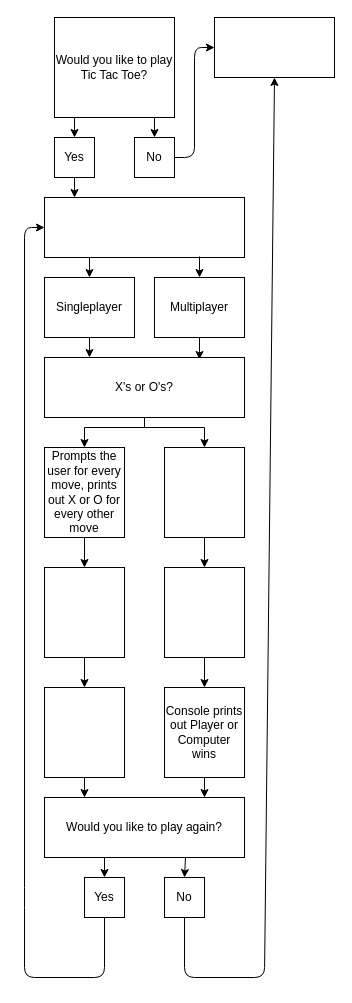
The diagram is 352 pixels wide and 1003 high, and some of its shapes have lost their labels. Here are the shapes that lost their labels. From the top down, the box of each, then its label:
(214, 16, 334, 78): Press any key to continue...
(44, 196, 244, 258): Would you like to play singleplayer or multiplayer?
(164, 446, 244, 538): Prompts the user for every other move, AI responds accordingly
(44, 566, 124, 658): Player gets three X's or O's in a row
(164, 566, 244, 658): Player or AI gets three X's or O's in a row
(44, 686, 124, 778): Console prints out Player (X or O) wins
